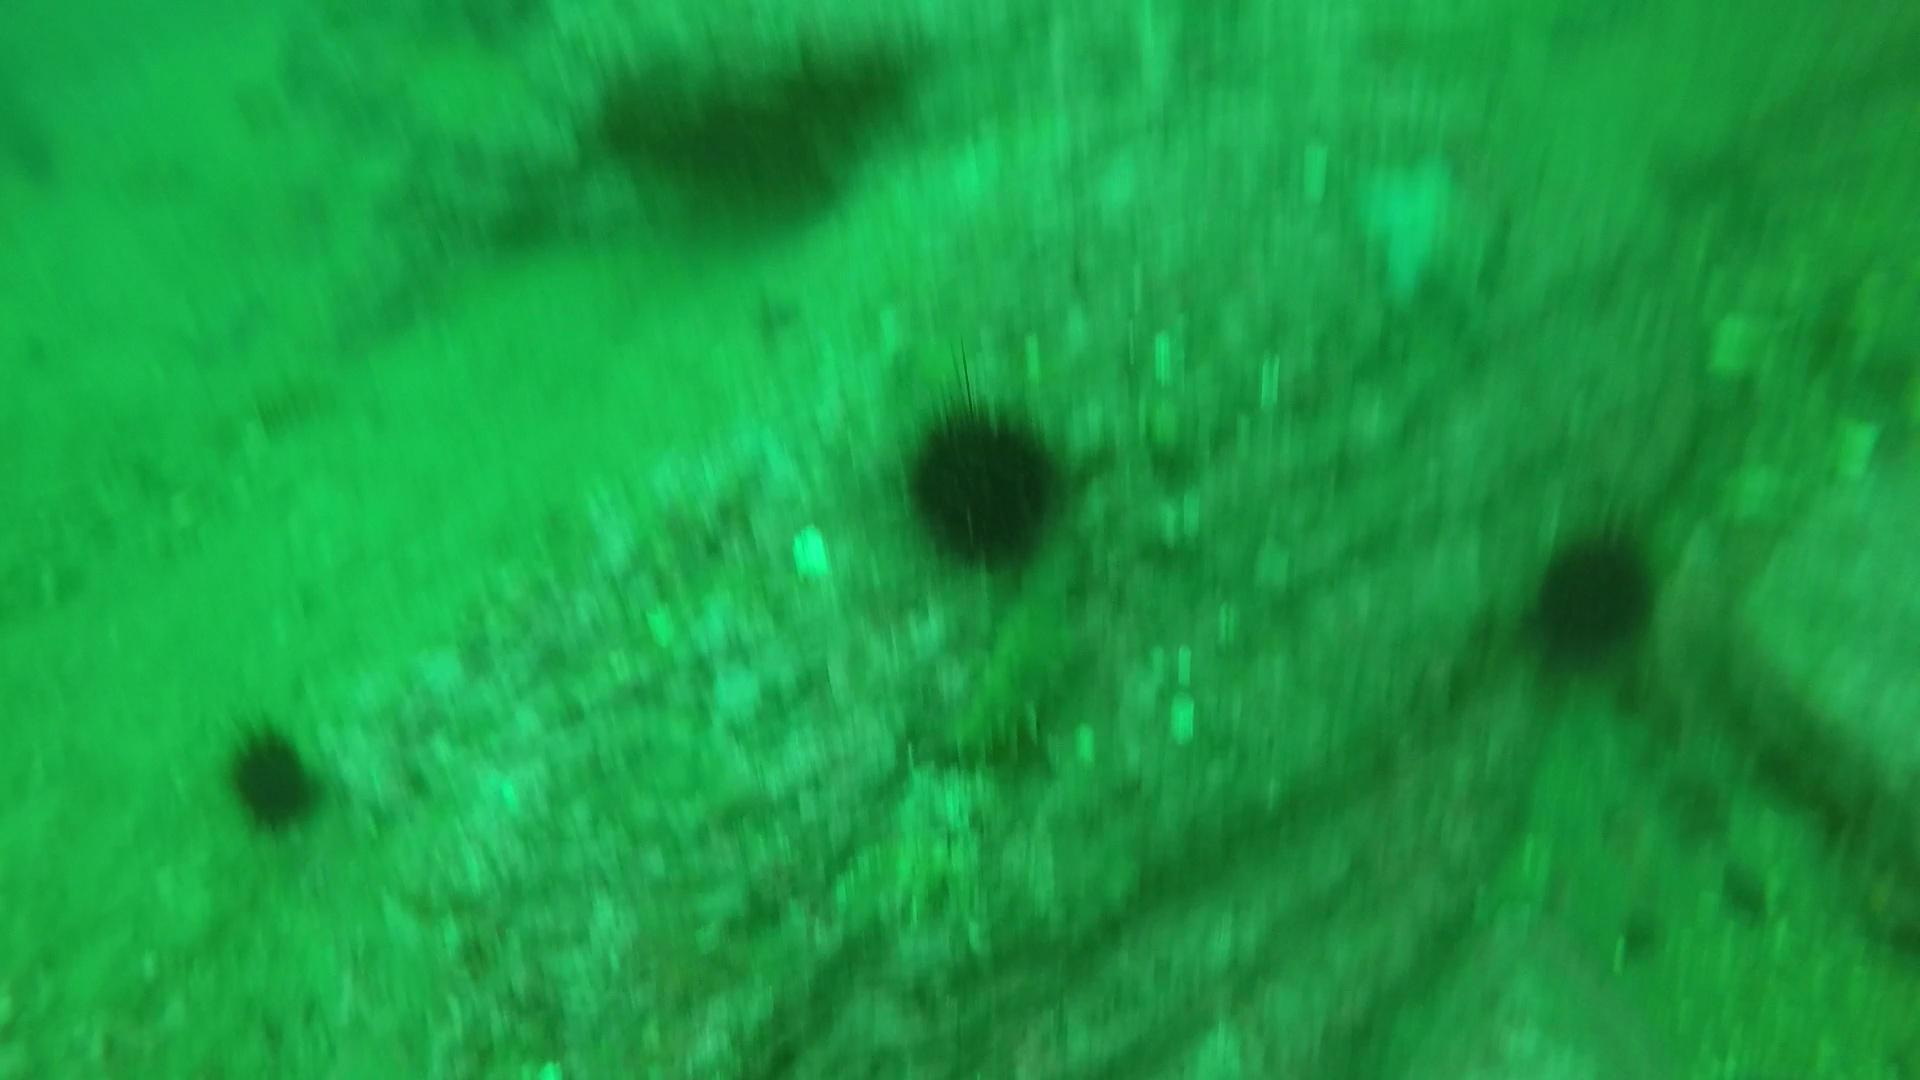urchin: (898, 385, 1096, 585), (1516, 509, 1672, 661), (225, 721, 345, 827)
